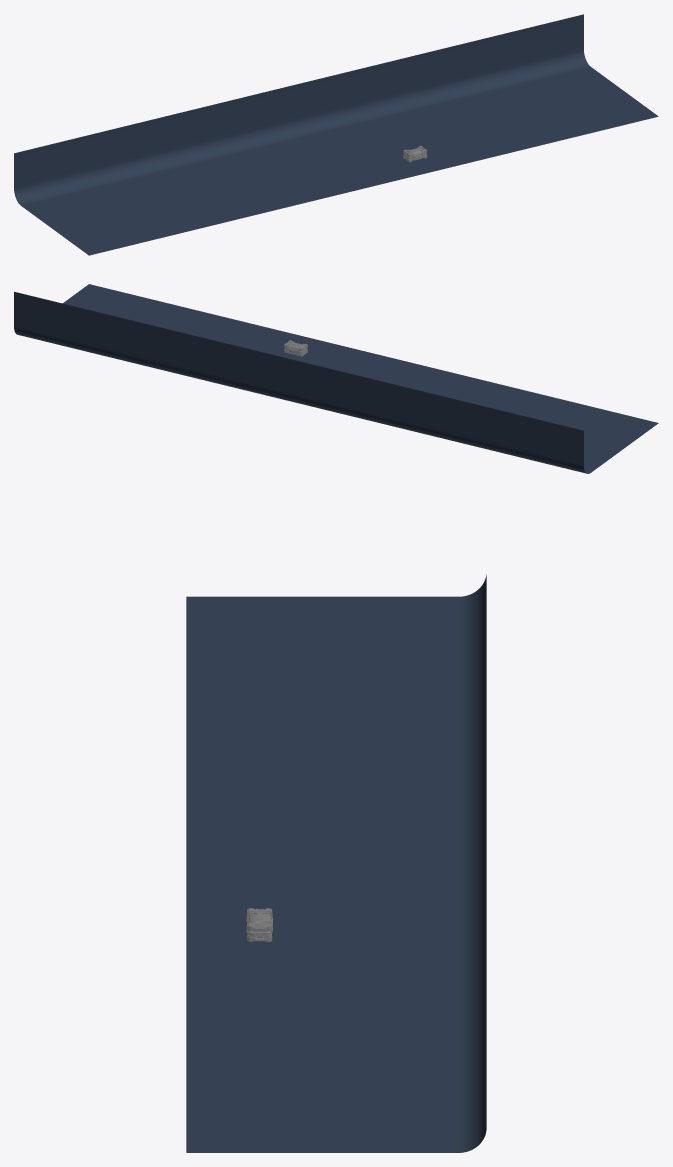
File: container.glb
The picture shows the model from 3 angles, top to bottom: view 1: azimuth 30°, elevation 25°; view 2: azimuth 150°, elevation 25°; view 3: azimuth 270°, elevation 25°; orthographic projection. The views are drawn at different scales.
Parts seen in each view (by area): view 1: Node1; view 2: Node1; view 3: Node1.
Boxes of the visible parts, bbox=[...] form: Node1: bbox=[14, 14, 658, 255]; Node1: bbox=[14, 284, 658, 473]; Node1: bbox=[186, 574, 486, 1152].
Size of the model in its own units: 47.87 by 3.8 by 10.92.
